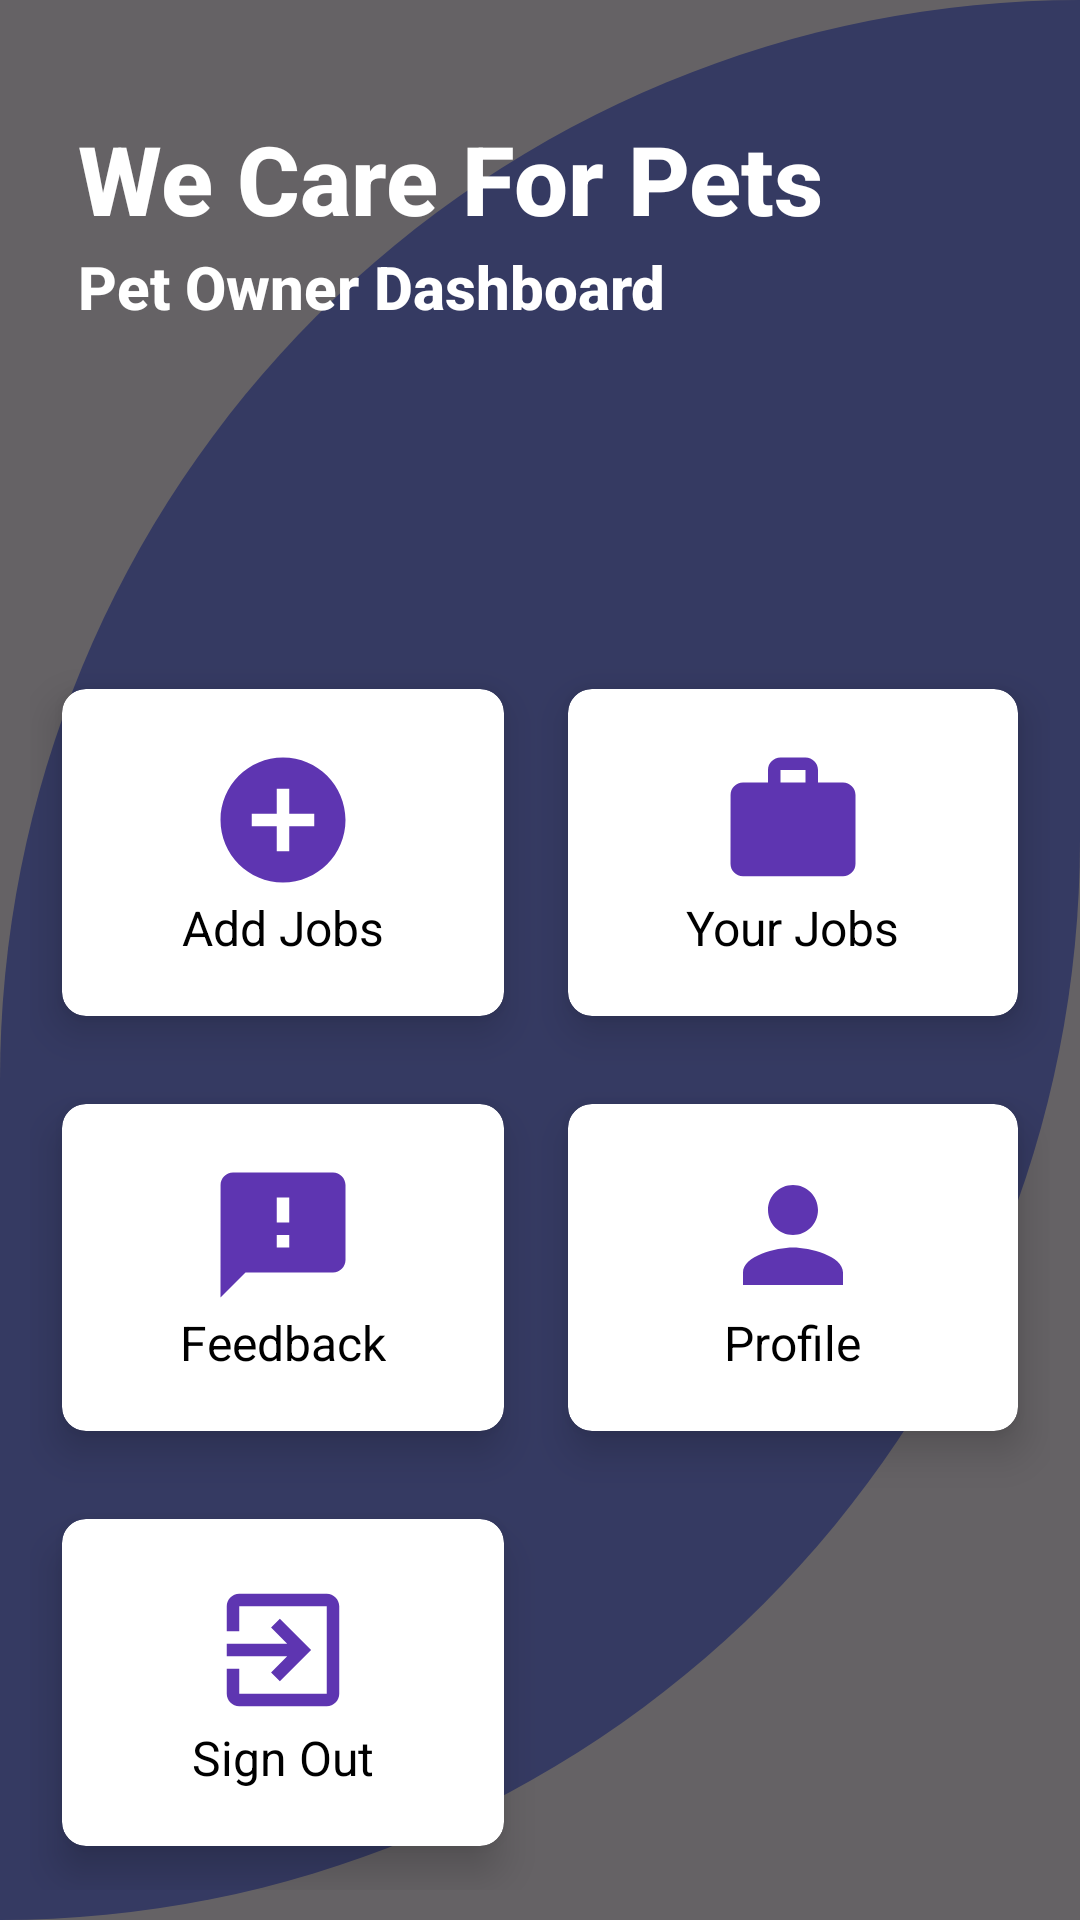

Icon bounding boxes for this 1080×1920 phone screenshot, format (x1, y1, x2, y2):
exit: (226, 1593, 340, 1707)
person: (743, 1185, 843, 1285)
